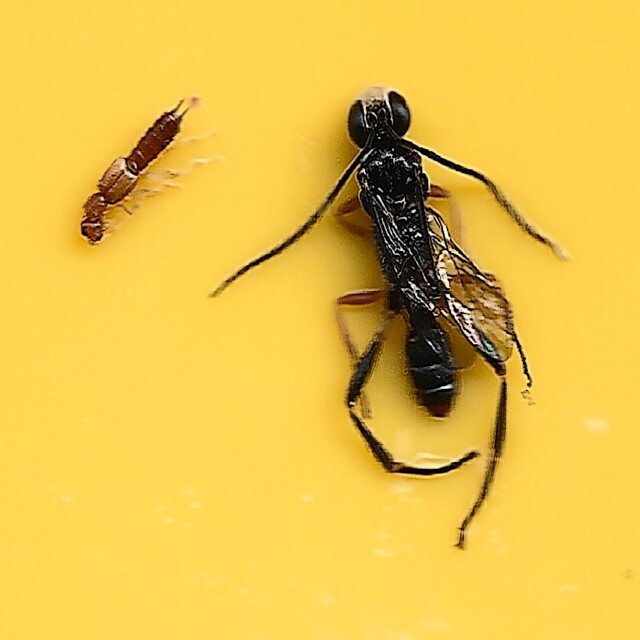Coleoptera: (78, 99, 192, 245)
Hymenoptera: (212, 95, 562, 545)
